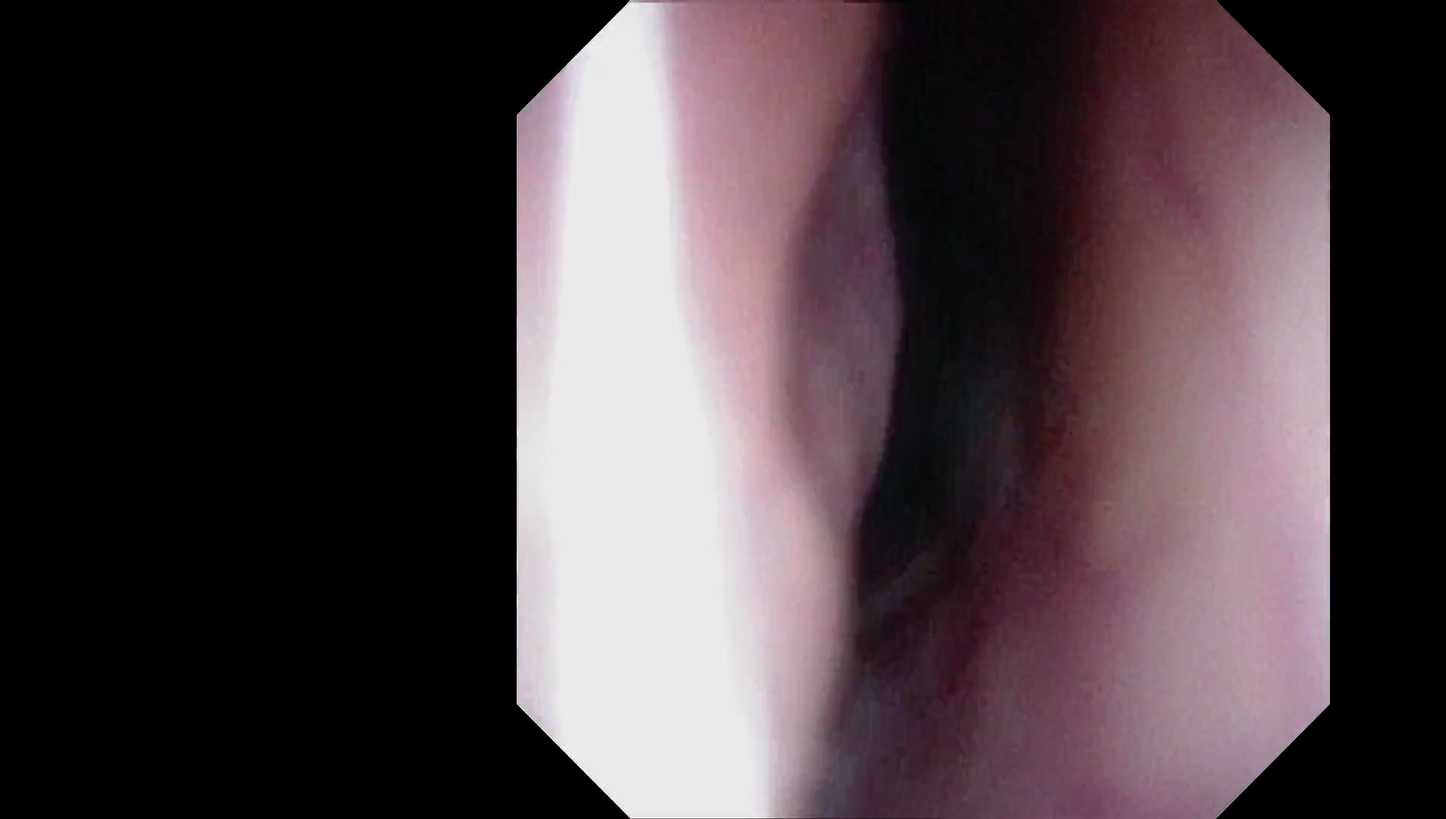close_wall: (533, 66, 840, 703), (1107, 121, 1329, 700)
next: (813, 16, 1093, 617)
